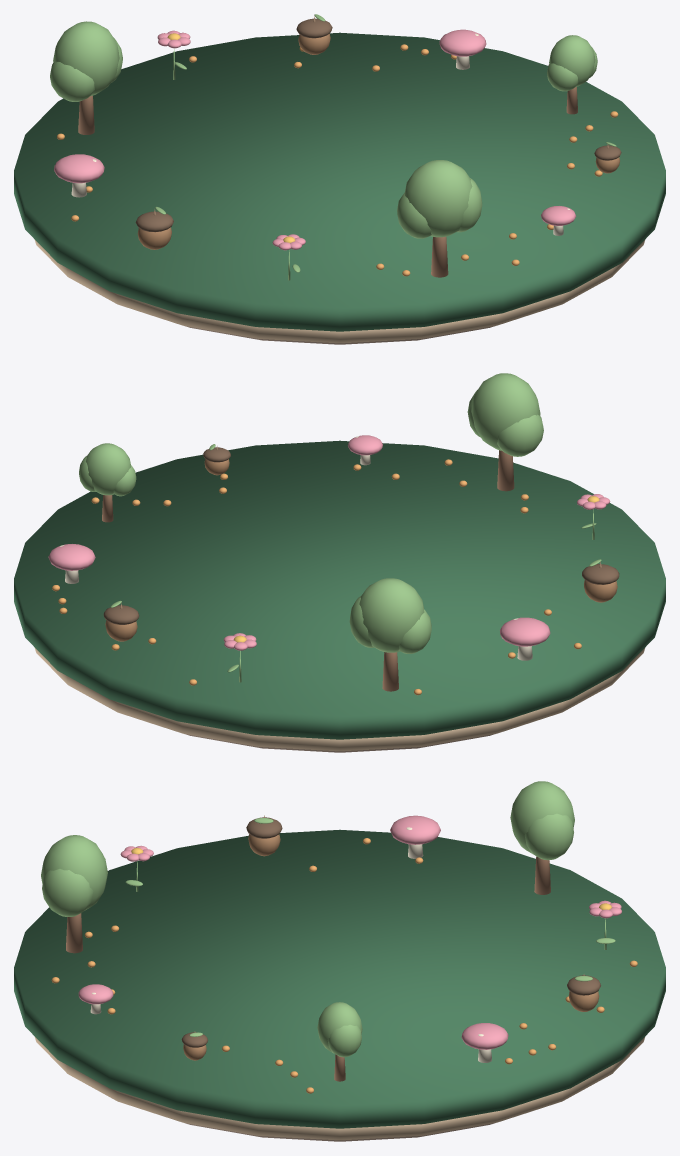
The model's file is world.glb.
The picture shows the model from 3 angles, top to bottom: view 1: azimuth 30°, elevation 25°; view 2: azimuth 150°, elevation 25°; view 3: azimuth 270°, elevation 25°; orthographic projection.
Visible parts, largest first — view 1: Cone, Cone.001, tree.003, tree.002, tree.001, mushroom.002, acorn.002, mushroom.001, acorn.001, mushroom.003, acorn.003, flower.001 (+2 smaller); view 2: Cone, Cone.001, tree.002, tree.003, tree.001, mushroom.002, acorn.002, mushroom.001, acorn.001, mushroom.003, acorn.003, flower.001 (+1 smaller); view 3: Cone, Cone.001, tree.003, tree.002, tree.001, mushroom.002, mushroom.001, acorn.002, acorn.001, mushroom.003, flower.001, acorn.003 (+2 smaller).
Part boxes in pixels (left/top/right/bottom): Cone: left=14, top=32, right=665, bottom=331; Cone.001: left=35, top=240, right=644, bottom=343; tree.003: left=397, top=160, right=482, bottom=277; tree.002: left=50, top=21, right=122, bottom=134; tree.001: left=547, top=35, right=597, bottom=114; mushroom.002: left=54, top=154, right=104, bottom=197; acorn.002: left=135, top=206, right=173, bottom=249; mushroom.001: left=439, top=29, right=486, bottom=69; acorn.001: left=296, top=14, right=332, bottom=54; mushroom.003: left=541, top=206, right=576, bottom=235; acorn.003: left=594, top=142, right=621, bottom=173; flower.001: left=157, top=30, right=190, bottom=79; Cone: left=14, top=440, right=665, bottom=739; Cone.001: left=35, top=648, right=644, bottom=751; tree.002: left=349, top=578, right=431, bottom=691; tree.003: left=467, top=373, right=543, bottom=491; tree.001: left=79, top=443, right=136, bottom=522; mushroom.002: left=500, top=617, right=550, bottom=660; acorn.002: left=582, top=559, right=619, bottom=602; mushroom.001: left=48, top=544, right=95, bottom=583; acorn.001: left=103, top=600, right=139, bottom=641; mushroom.003: left=348, top=435, right=382, bottom=465; acorn.003: left=203, top=444, right=230, bottom=475; flower.001: left=223, top=633, right=256, bottom=682; Cone: left=14, top=829, right=665, bottom=1128; Cone.001: left=35, top=1037, right=644, bottom=1140; tree.003: left=41, top=835, right=107, bottom=953; tree.002: left=510, top=781, right=574, bottom=894; tree.001: left=317, top=1002, right=362, bottom=1081; mushroom.002: left=390, top=815, right=440, bottom=858; mushroom.001: left=461, top=1023, right=508, bottom=1062; acorn.002: left=246, top=815, right=282, bottom=856; acorn.001: left=567, top=974, right=600, bottom=1011; mushroom.003: left=78, top=984, right=113, bottom=1014; flower.001: left=589, top=900, right=621, bottom=949; acorn.003: left=181, top=1031, right=207, bottom=1060.
Bounding box in the file's own units: 9.6 × 2.61 × 9.6.
